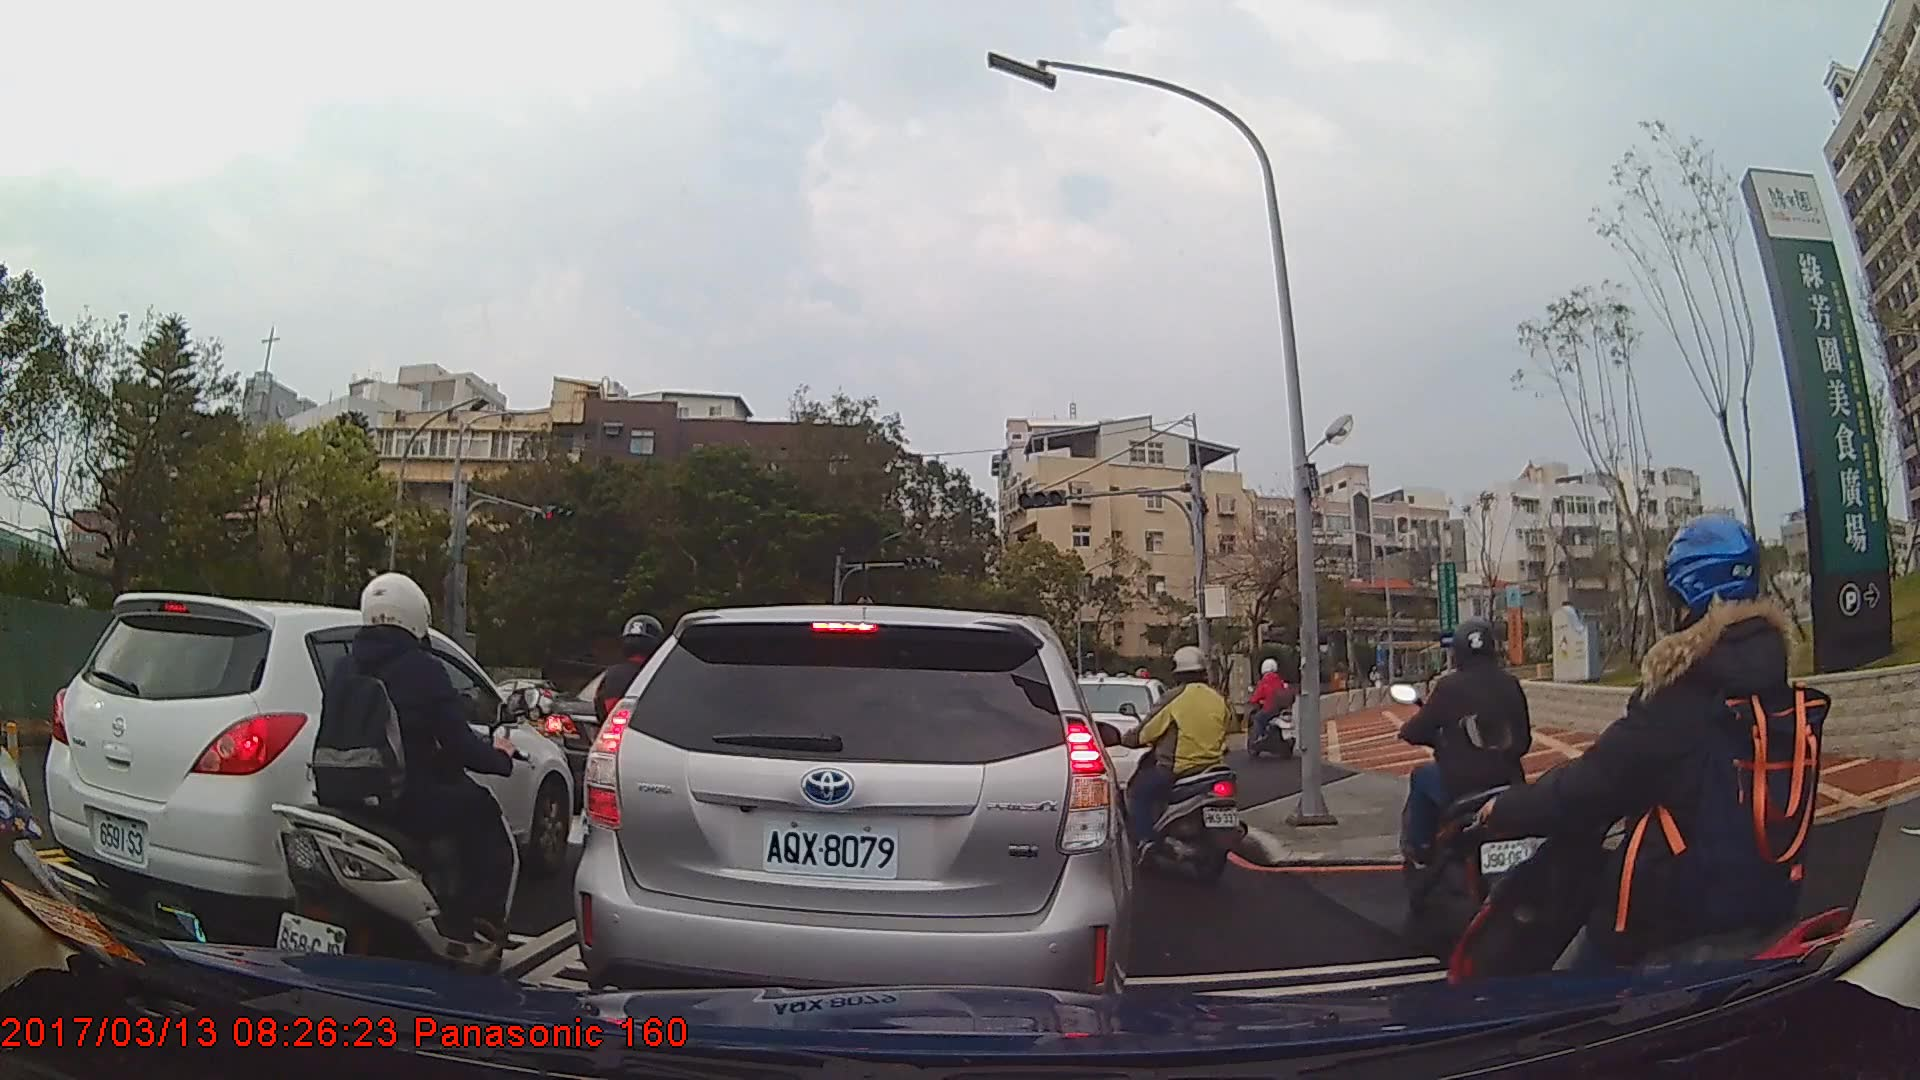rider: (1441, 511, 1866, 1063), (267, 565, 530, 1015), (1381, 616, 1563, 952), (1122, 643, 1244, 883), (1248, 656, 1300, 764)
vehicle: (570, 602, 1136, 1034), (45, 592, 572, 934), (491, 677, 563, 722)
